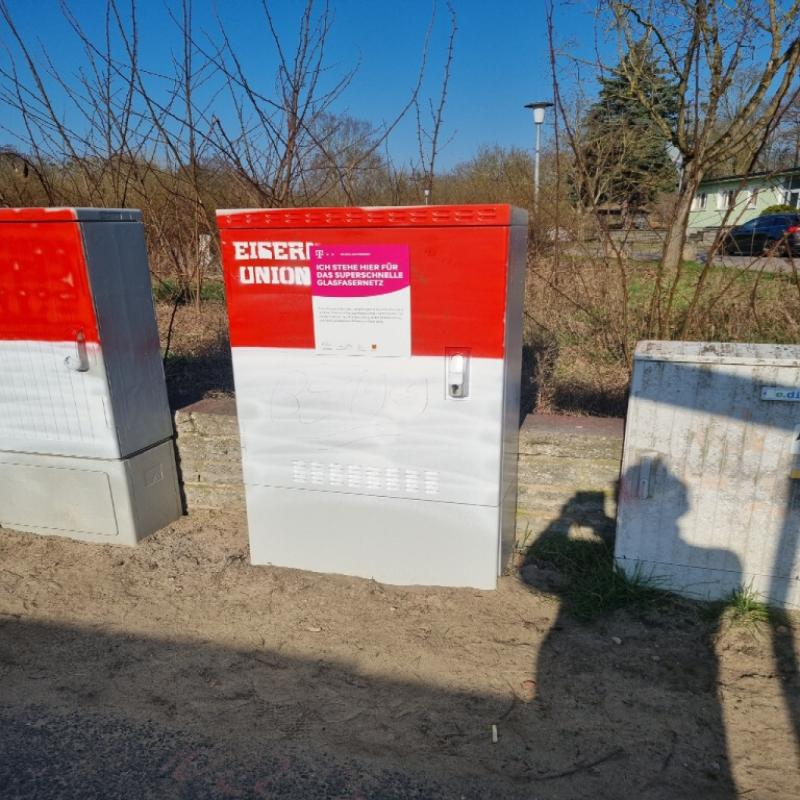NT-Gehause: (228, 207, 529, 585), (0, 208, 187, 543)
Steaker: (305, 241, 413, 360)
